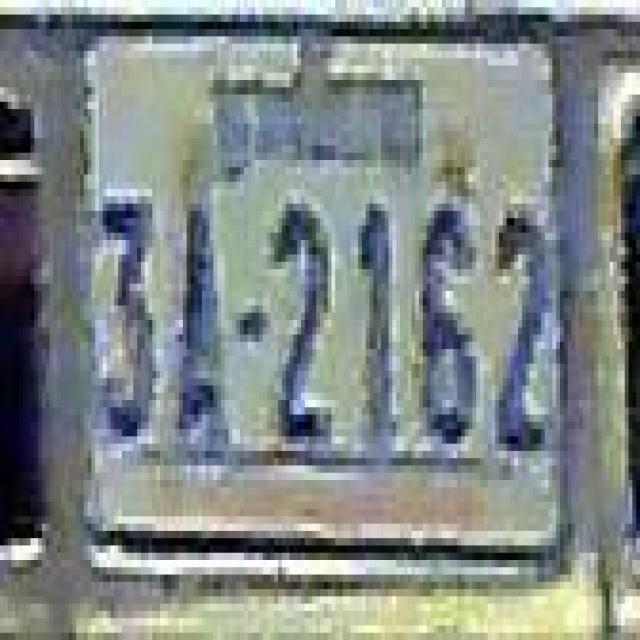Preah_Sihanouk: (206, 29, 426, 186)
